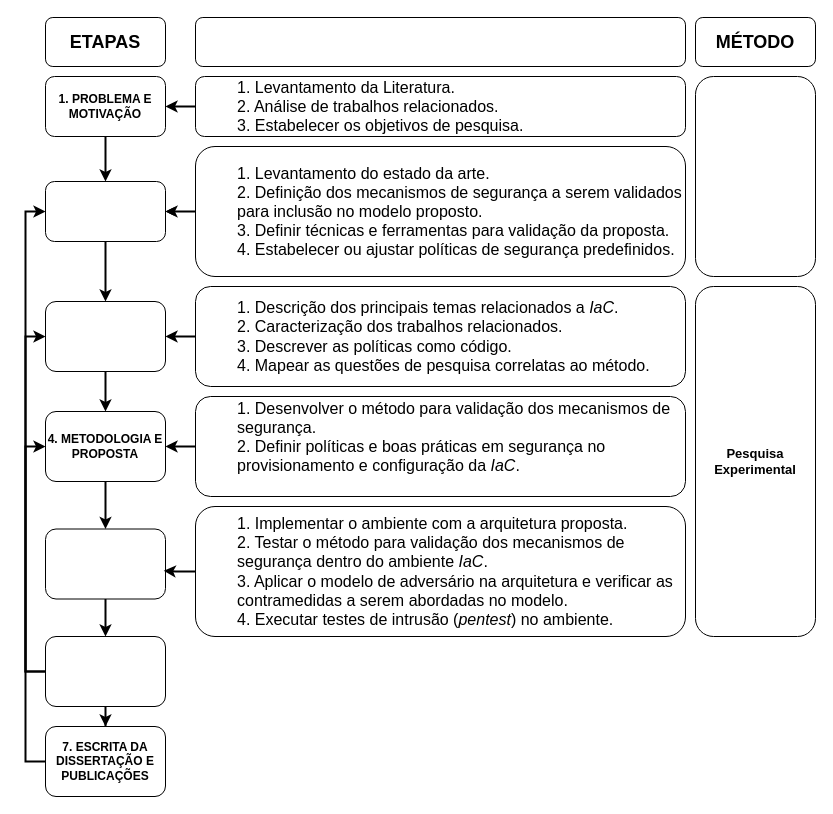
The diagram is 833 pixels wide and 814 high, and some of its shapes have lost their labels. Here are the shapes that lost their labels. From the top down, the centre of each, then its label:
[440,41]: ATIVIDADES
[755,176]: Pesquisa Exploratória
[105,211]: 2. OBJETIVOS
[105,336]: 3. FUNDAMENTAÇÂO E TRABALHOS RELACIONADOS
[105,563]: 5. RESULTADOS PRELIMINARES
[105,671]: 6. CRONOGRAMA
